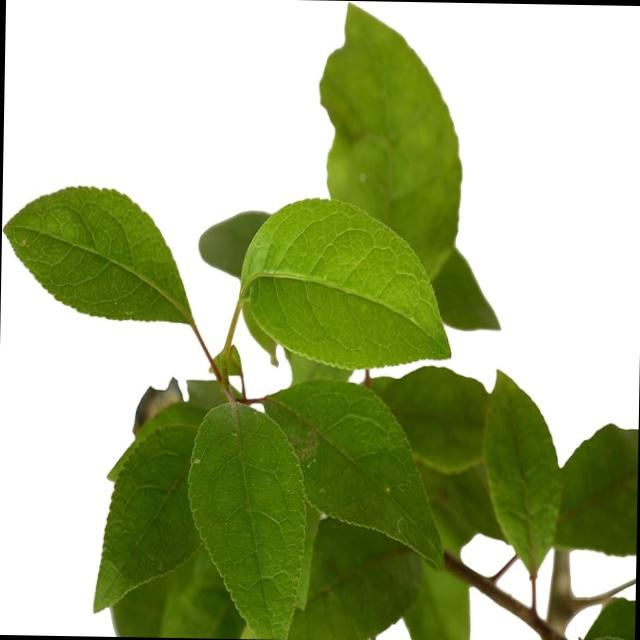Gugal: (0, 120, 519, 572)
